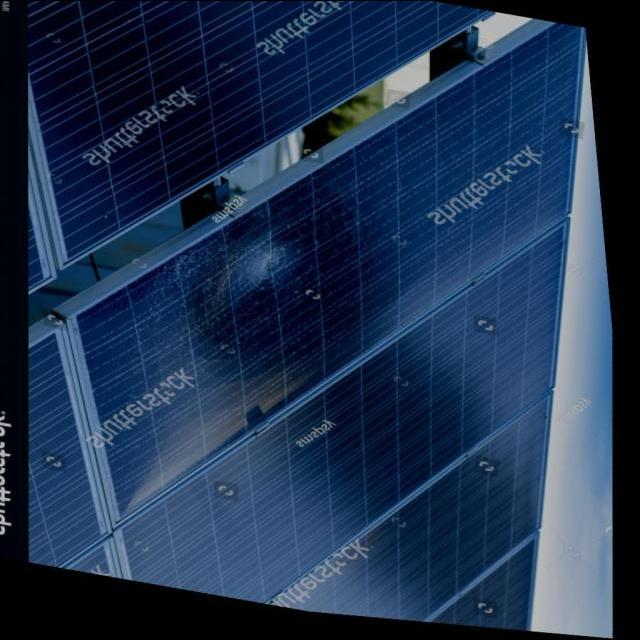cracked: (76, 38, 580, 488)
